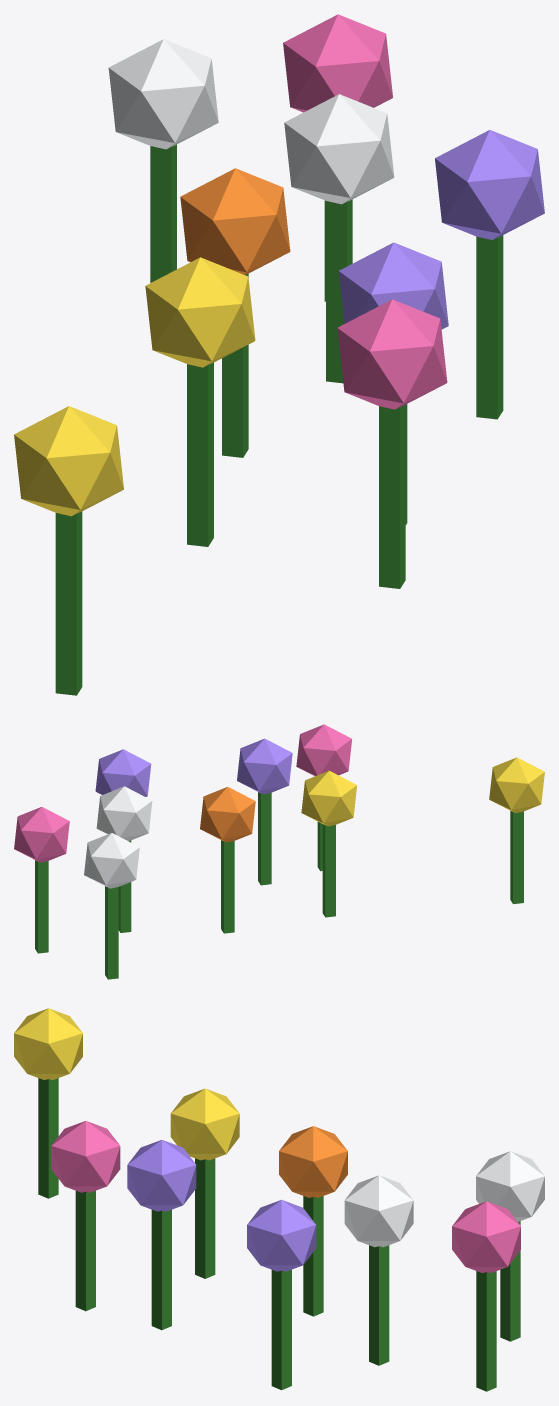
File: dc-flowers-7kvt9O39.glb
The picture shows the model from 3 angles, top to bottom: view 1: azimuth 30°, elevation 25°; view 2: azimuth 150°, elevation 25°; view 3: azimuth 270°, elevation 25°; orthographic projection. The views are drawn at different scales.
Parts seen in each view (by area): view 1: Cylinder; view 2: Cylinder; view 3: Cylinder.
Boxes of the visible parts, x1,y1,x2,y2 form: Cylinder: (14, 14, 544, 695); Cylinder: (14, 724, 544, 979); Cylinder: (14, 1008, 544, 1391).
Size of the model in its own units: 0.2085 by 0.081 by 0.2092.
